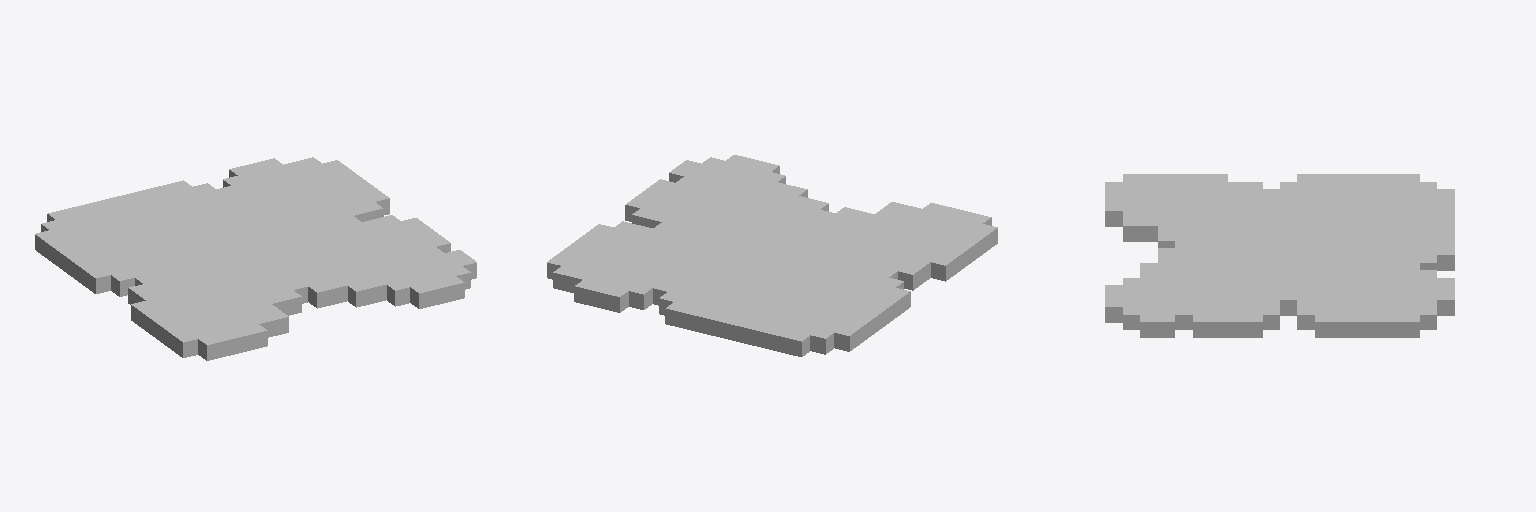
File: Mug.obj
3 views of the same model, side by side, from view 1: azimuth 30°, elevation 25°; view 2: azimuth 150°, elevation 25°; view 3: azimuth 270°, elevation 25° (orthographic).
Visible parts, largest first — view 1: object 1; view 2: object 1; view 3: object 1.
Boxes of the visible parts, x1,y1,x2,y2 form: object 1: [35, 157, 476, 360]; object 1: [547, 155, 997, 356]; object 1: [1105, 174, 1454, 337].
Size of the model in its own units: 2 by 0.1 by 2.